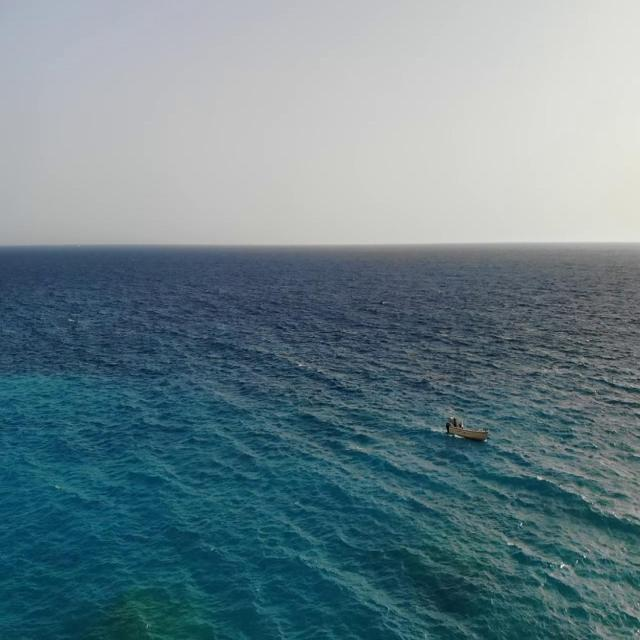boat: (444, 408, 488, 446)
